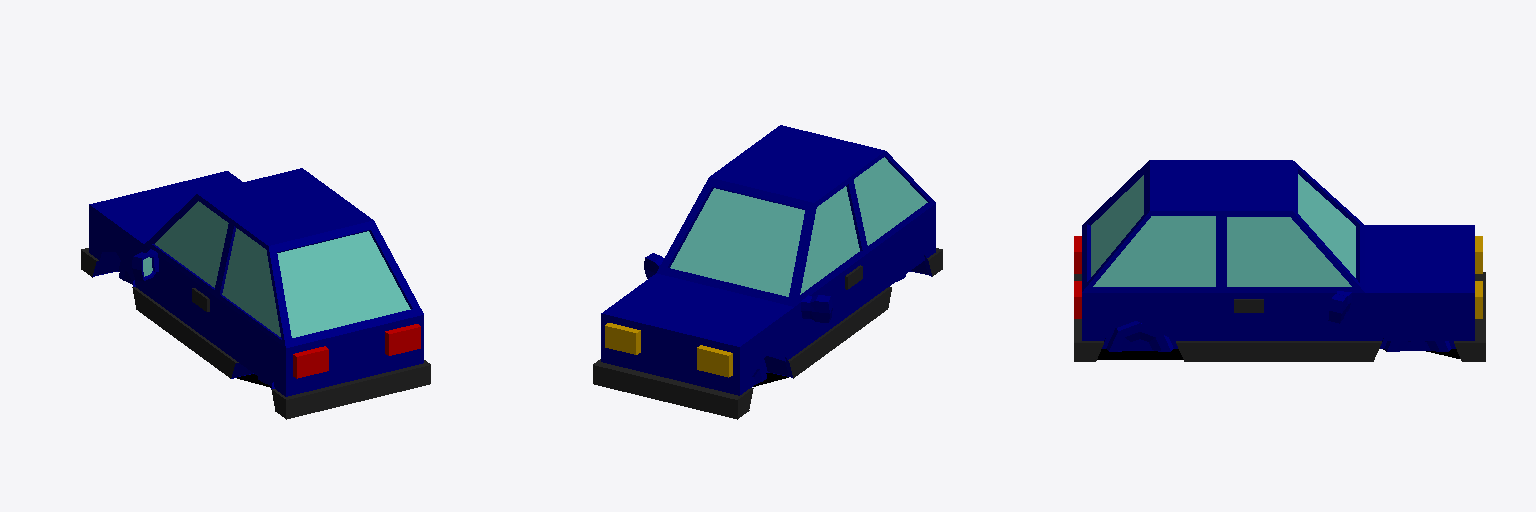
3 views of the same model, side by side, from view 1: azimuth 30°, elevation 25°; view 2: azimuth 150°, elevation 25°; view 3: azimuth 270°, elevation 25° (orthographic).
Visible parts, largest first — view 1: Cube.001; view 2: Cube.001; view 3: Cube.001.
Part boxes in pixels (left/top/right/bottom): Cube.001: left=81, top=168, right=430, bottom=419; Cube.001: left=593, top=125, right=942, bottom=419; Cube.001: left=1074, top=160, right=1485, bottom=361.
Bounding box in the file's own units: 2.76 × 2 × 5.3.
6 materials, 2 textured.